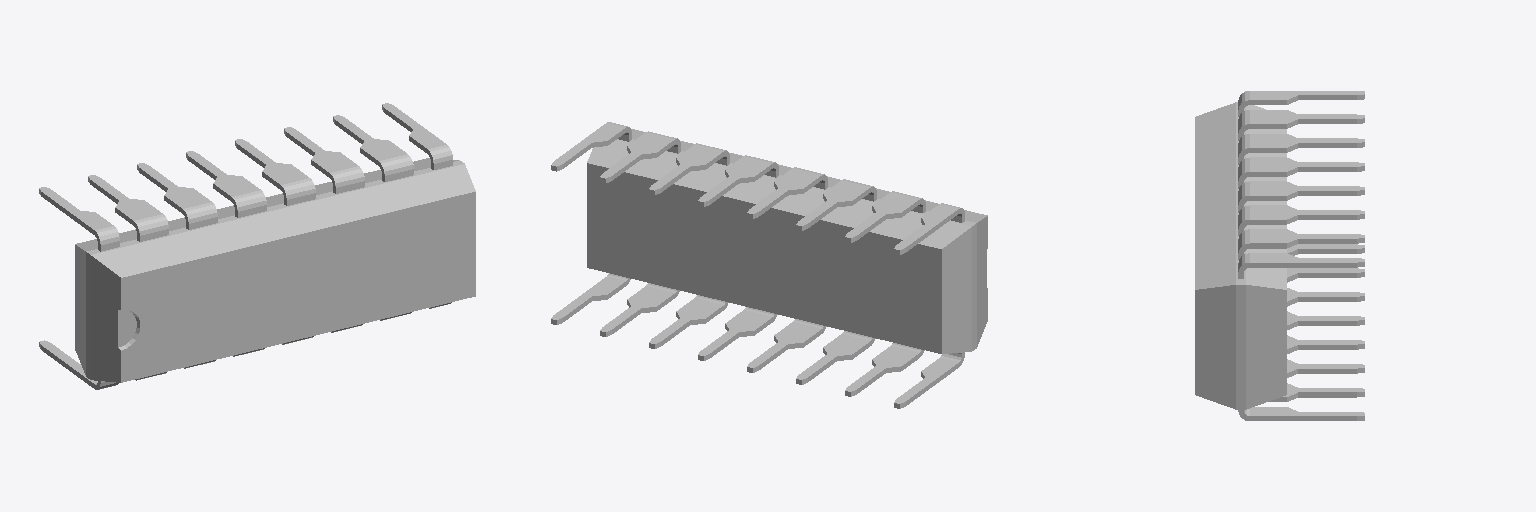
Rendered from DIP-16P-M03.obj.
The picture shows the model from 3 angles: view 1: azimuth 30°, elevation 25°; view 2: azimuth 150°, elevation 25°; view 3: azimuth 270°, elevation 25°; orthographic projection.
Parts seen in each view (by area): view 1: Solid1; view 2: Solid1; view 3: Solid1.
Boxes of the visible parts, box(x1,y1,x2,y2) form: Solid1: box(39, 103, 475, 389); Solid1: box(551, 122, 987, 408); Solid1: box(1195, 91, 1364, 420).
Size of the model in its own units: 19.4 by 7.87 by 7.66.